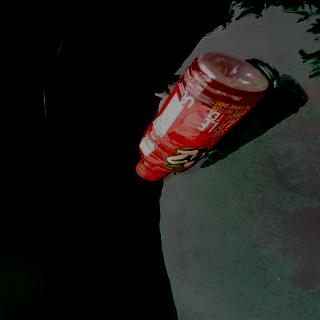bottle: (132, 48, 270, 184)
